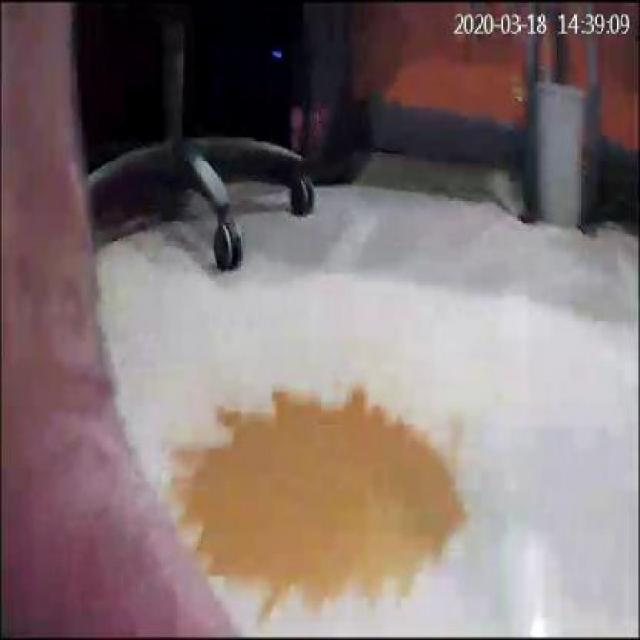spill: (160, 388, 468, 597)
